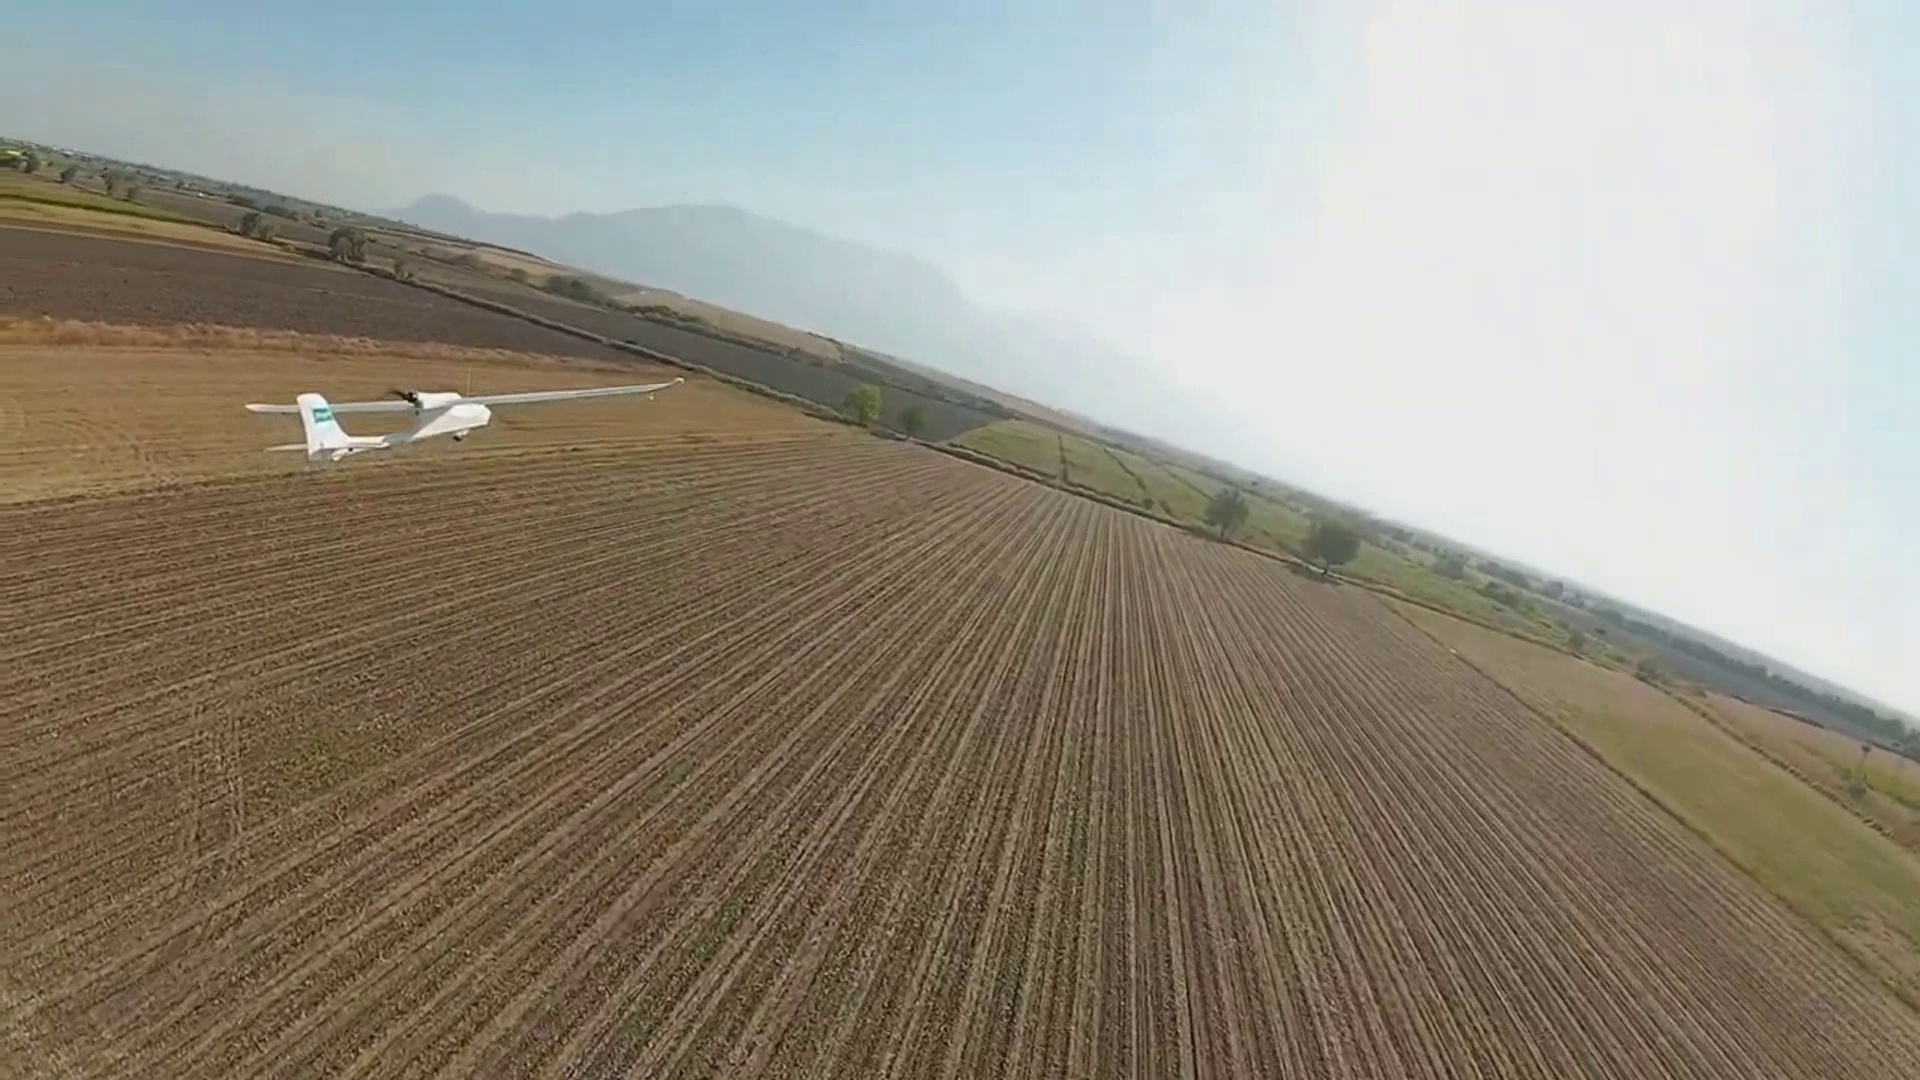airplane: (49, 203, 1913, 795), (260, 387, 495, 459)
